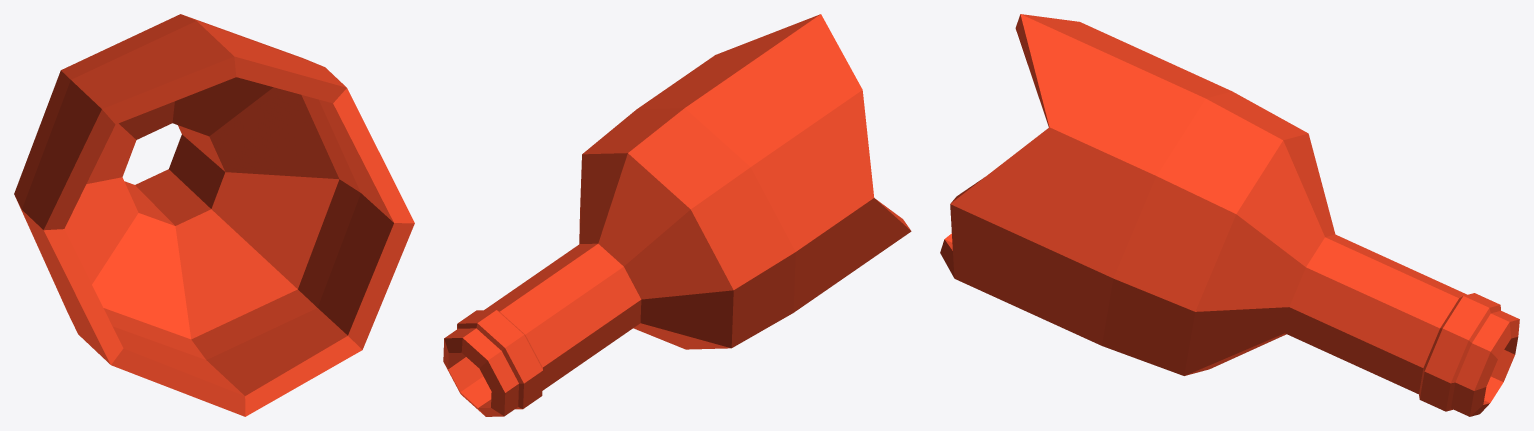
File: SM_Alcohol_Broken_B_City.fbx
The picture shows the model from 3 angles, left to right: view 1: azimuth 30°, elevation 25°; view 2: azimuth 150°, elevation 25°; view 3: azimuth 270°, elevation 25°; orthographic projection. The views are drawn at different scales.
Visible parts, largest first — view 1: SM_Alcohol_Broken_B_City; view 2: SM_Alcohol_Broken_B_City; view 3: SM_Alcohol_Broken_B_City.
Part boxes in pixels (bbox=[...]): SM_Alcohol_Broken_B_City: bbox=[14, 14, 414, 416]; SM_Alcohol_Broken_B_City: bbox=[443, 14, 911, 416]; SM_Alcohol_Broken_B_City: bbox=[940, 14, 1519, 416].
Bounding box in the file's own units: 0.1232 × 0.1242 × 0.1998.
